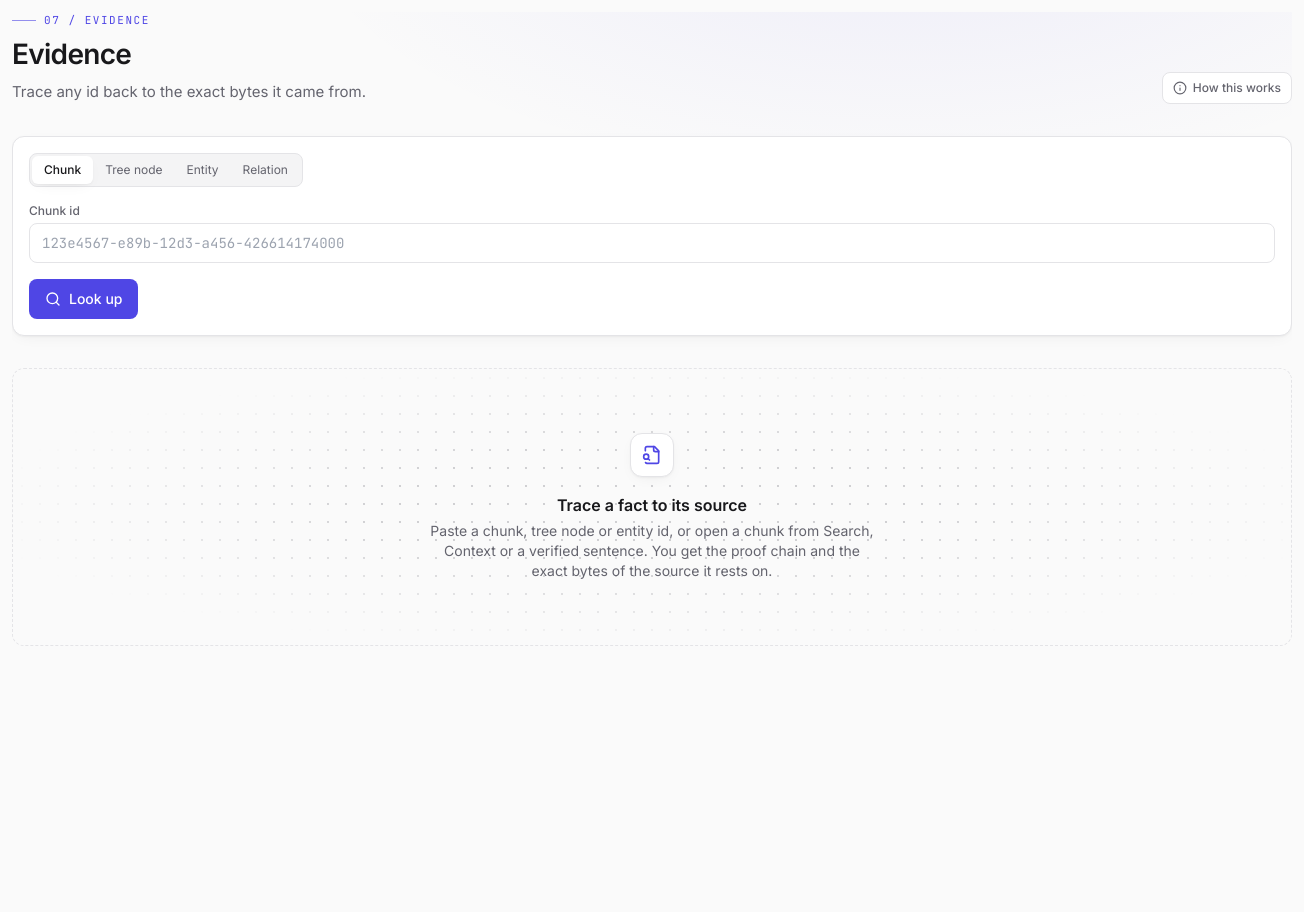
Test case: EvidencePage › relation_needs_three_fields_and_encodes_the_type
The width and height of the screenshot is (1304, 912).
Click the tab "Relation" at (265, 170), box [231,156,300,184]
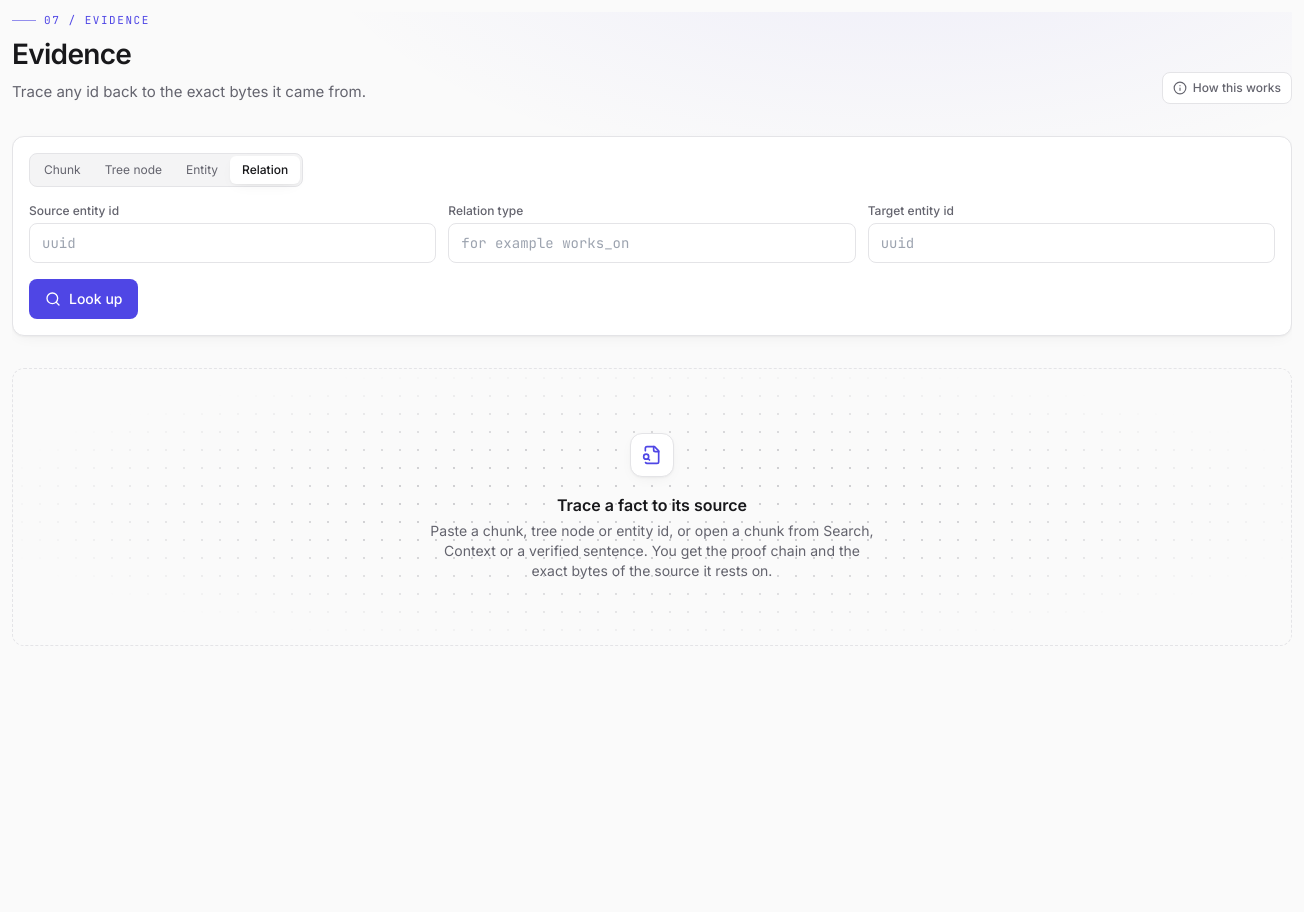
Type "11111111-1111-4111-8111-111111111111" into the field labelled "Source entity id" at (233, 243), box [29,223,436,263]
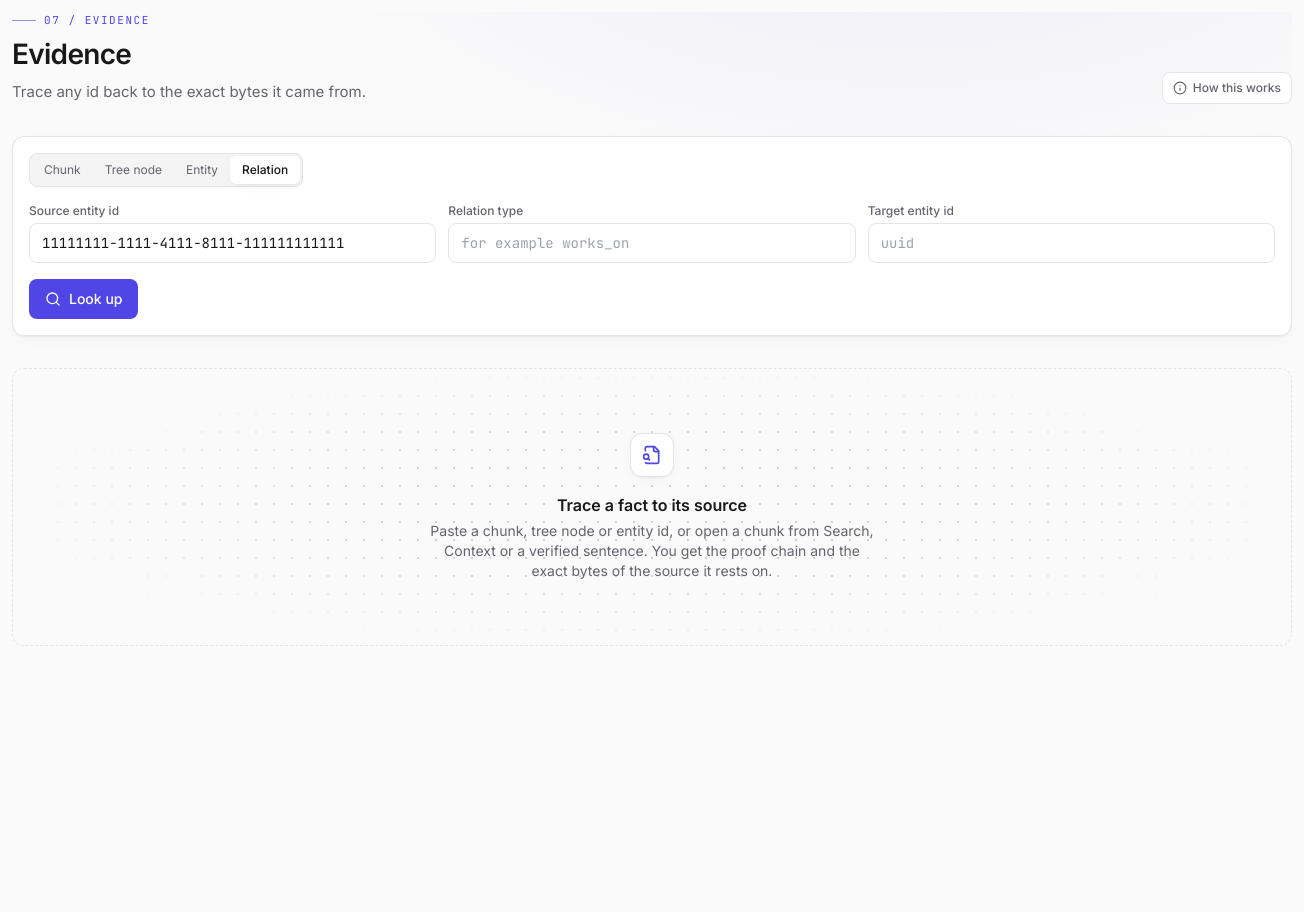
Type "works on/with" into the field labelled "Relation type" at (652, 243), box [448,223,856,263]
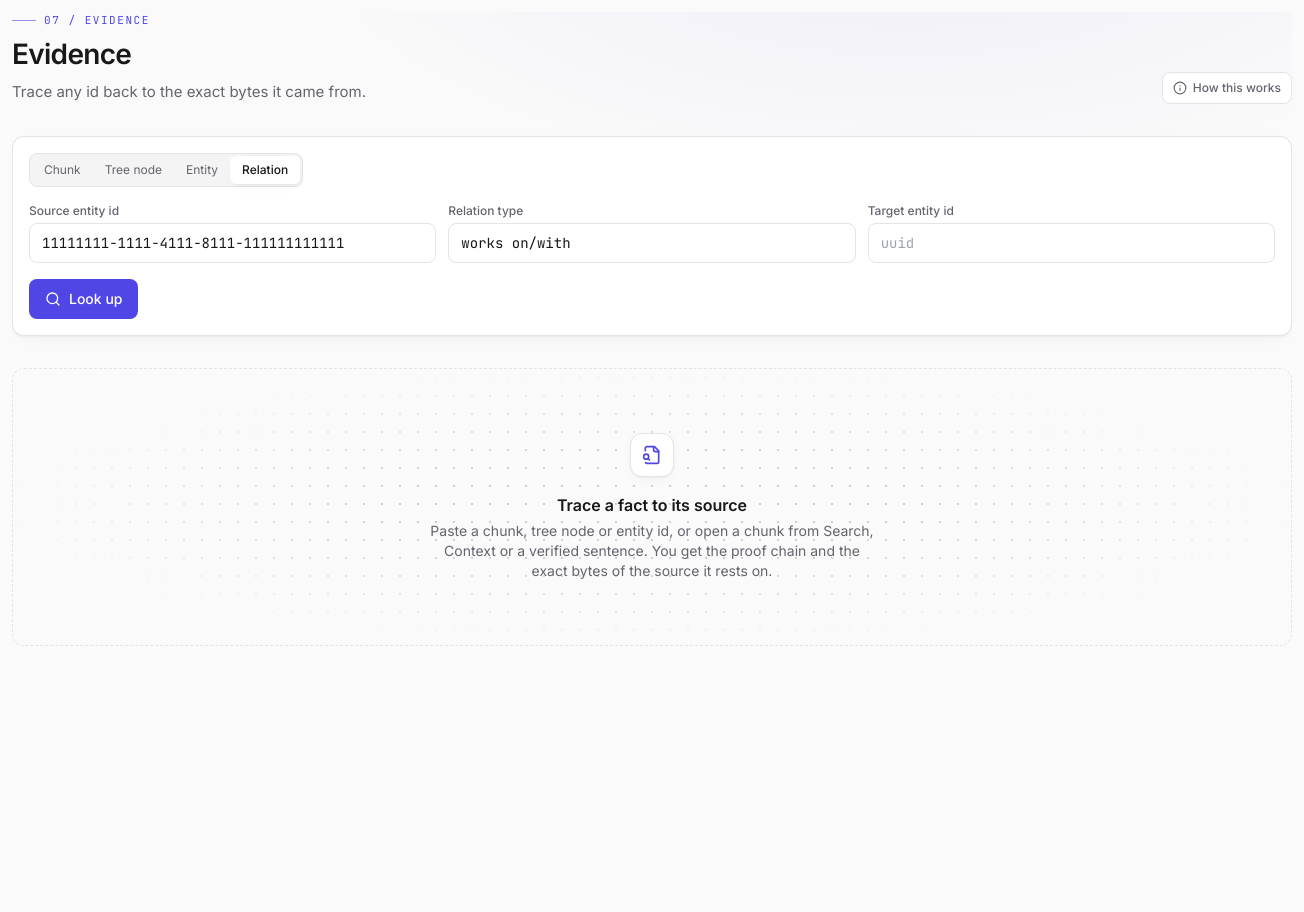
Type "11111111-1111-4111-8111-111111111111" into the field labelled "Target entity id" at (1071, 243), box [868,223,1275,263]
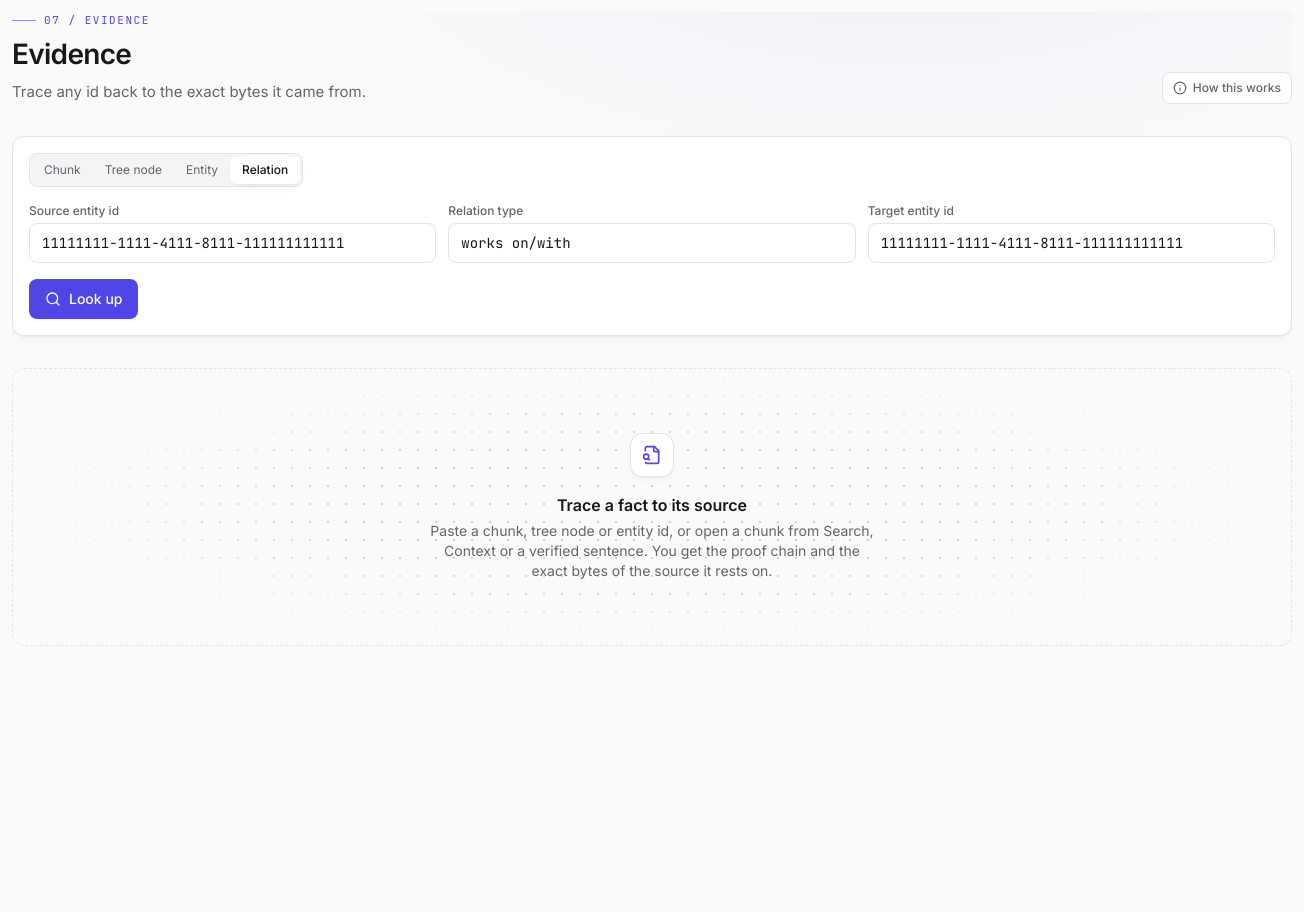
Click the button "Look up" at (84, 299), box [29,279,138,319]
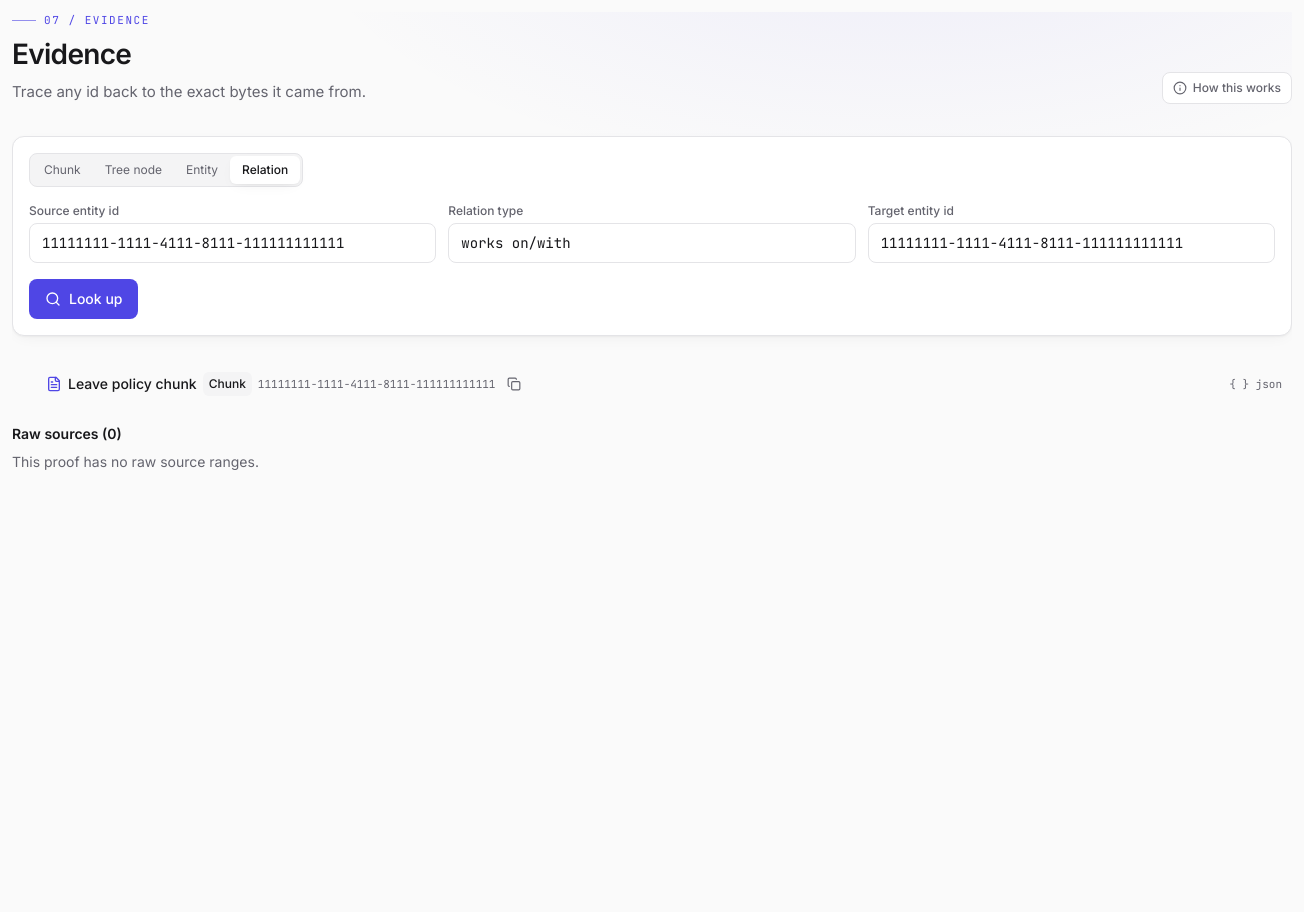
Expected: the text "Leave policy chunk" is shown, [68,374,197,394]
